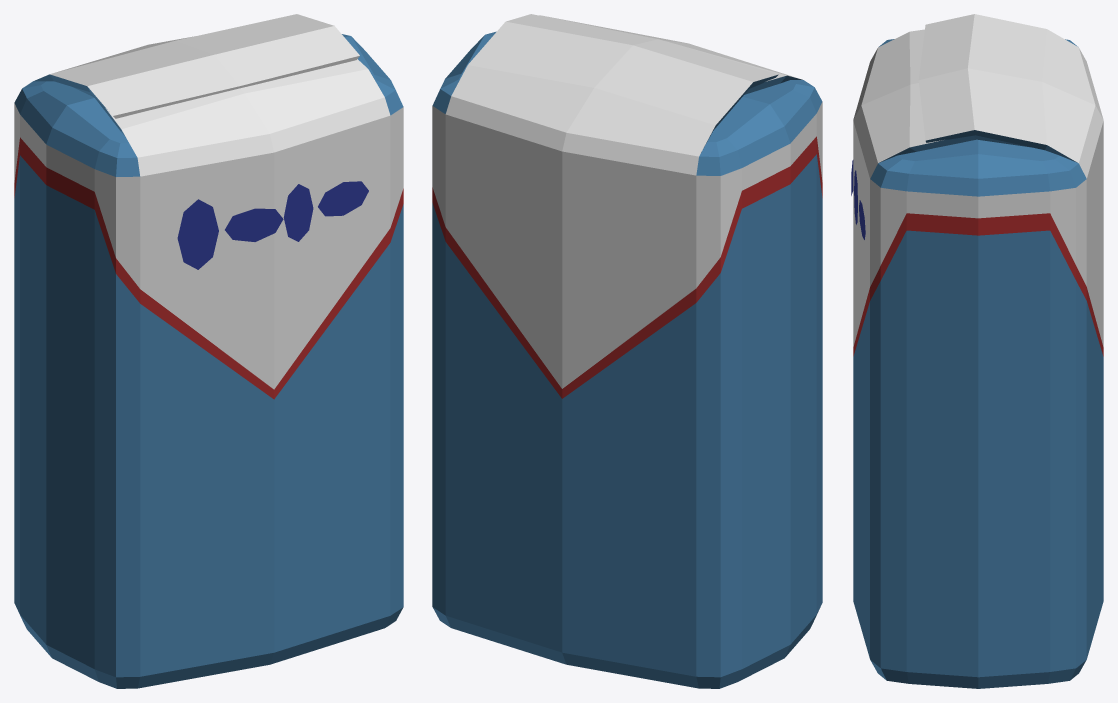
The model's file is Ma_Sugar.fbx.
3 views of the same model, side by side, from view 1: azimuth 30°, elevation 25°; view 2: azimuth 150°, elevation 25°; view 3: azimuth 270°, elevation 25° (orthographic). The views are drawn at different scales.
Visible parts, largest first — view 1: Ma_Sugar; view 2: Ma_Sugar; view 3: Ma_Sugar.
Boxes of the visible parts, left/top/right/bottom form: Ma_Sugar: left=14, top=14, right=403, bottom=688; Ma_Sugar: left=432, top=14, right=822, bottom=688; Ma_Sugar: left=851, top=14, right=1103, bottom=688.
Bounding box in the file's own units: 108 × 75.69 × 183.
